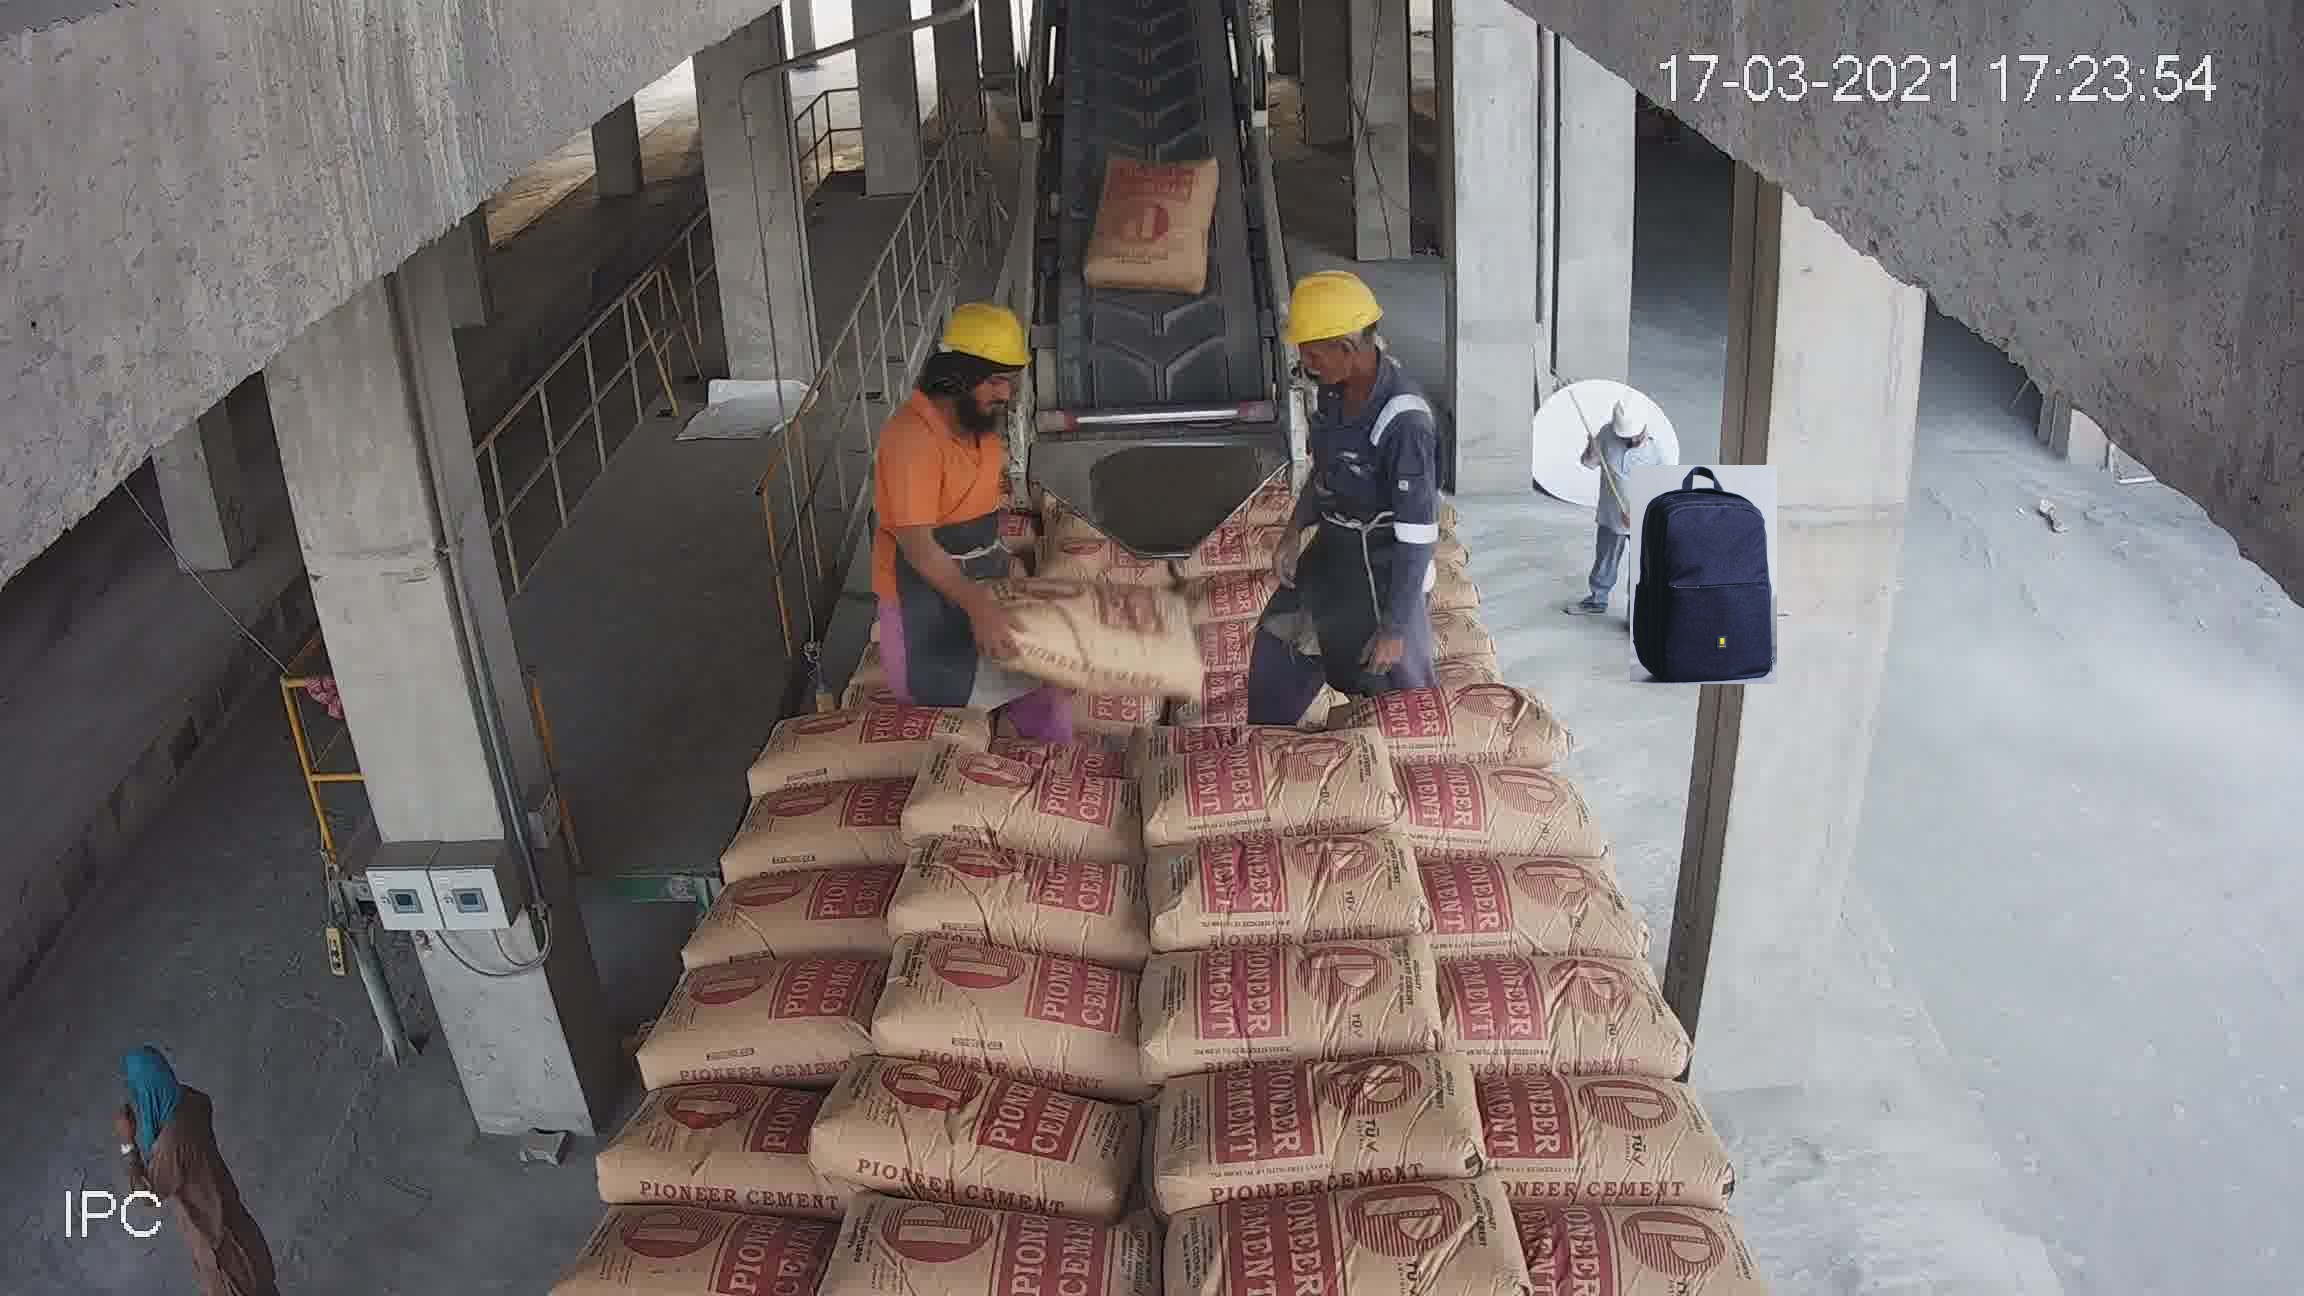bag: (1299, 399, 1465, 478), (1119, 212, 1214, 326), (1105, 9, 1198, 62)
bag_h: (1074, 1044, 1480, 1193), (812, 1048, 1127, 1218), (1141, 1176, 1533, 1293), (1431, 1071, 1728, 1214), (1128, 929, 1442, 1063), (1437, 957, 1692, 1093), (853, 957, 1125, 1082), (1393, 848, 1631, 981), (1124, 726, 1381, 847), (873, 843, 1161, 946), (1119, 646, 1385, 756), (1158, 820, 1424, 930), (649, 957, 885, 1081), (611, 1087, 823, 1217), (763, 1226, 1146, 1296), (1383, 752, 1597, 869), (1525, 1199, 1769, 1296), (1152, 578, 1399, 673), (548, 1215, 831, 1296), (677, 870, 926, 957), (905, 760, 1128, 850), (1353, 600, 1554, 699), (938, 673, 1149, 764), (753, 699, 951, 793), (1388, 685, 1590, 775), (736, 772, 897, 885), (949, 606, 1157, 684), (790, 630, 956, 725), (1307, 508, 1510, 585), (1173, 530, 1355, 609), (791, 578, 956, 654), (972, 555, 1143, 623), (1343, 562, 1525, 625), (1135, 491, 1313, 552), (821, 530, 972, 590), (1152, 348, 1287, 400), (986, 517, 1146, 559), (1146, 426, 1271, 468), (897, 464, 1003, 513), (916, 435, 1014, 479), (1165, 388, 1269, 426), (918, 408, 1017, 448), (932, 385, 1006, 411)
belt: (1032, 5, 1256, 290)
